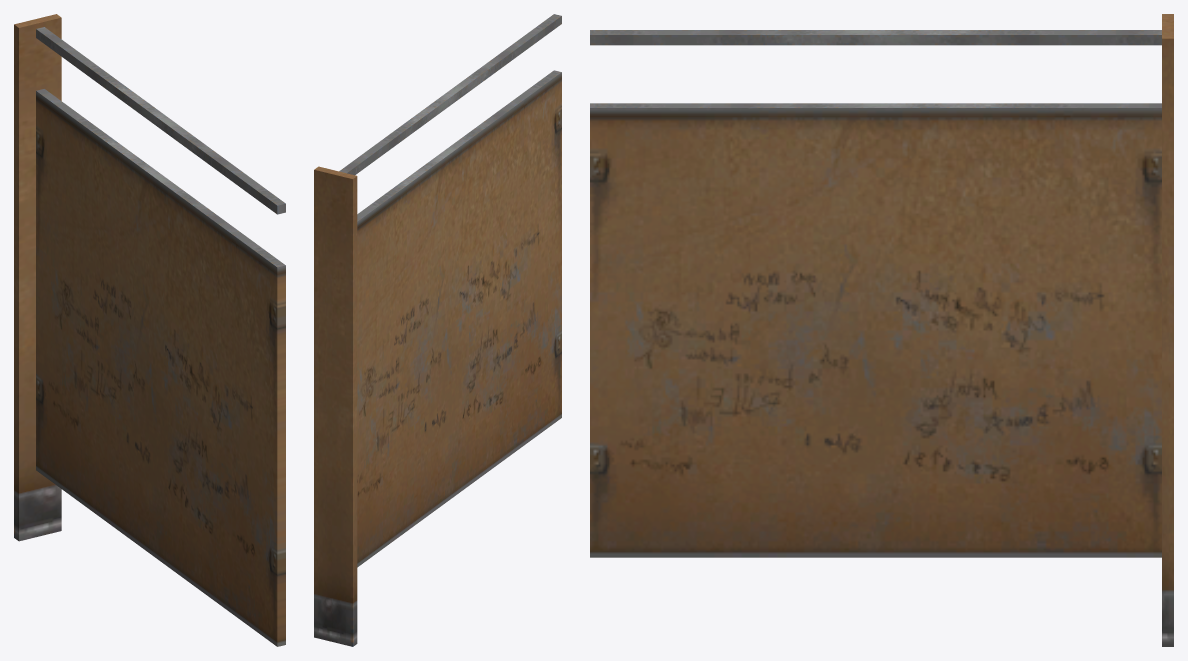
File: bathroomstall.fbx
The picture shows the model from 3 angles, left to right: view 1: azimuth 30°, elevation 25°; view 2: azimuth 150°, elevation 25°; view 3: azimuth 270°, elevation 25°; orthographic projection. The views are drawn at different scales.
Parts seen in each view (by area): view 1: mesh_0; view 2: mesh_0; view 3: mesh_0.
Boxes of the visible parts, <box> form: mesh_0: <box>14,14,285,646</box>; mesh_0: <box>314,14,561,646</box>; mesh_0: <box>590,14,1173,646</box>.
Size of the model in its own units: 20 by 230 by 200.
Materials: 1 (1 with a texture image).
